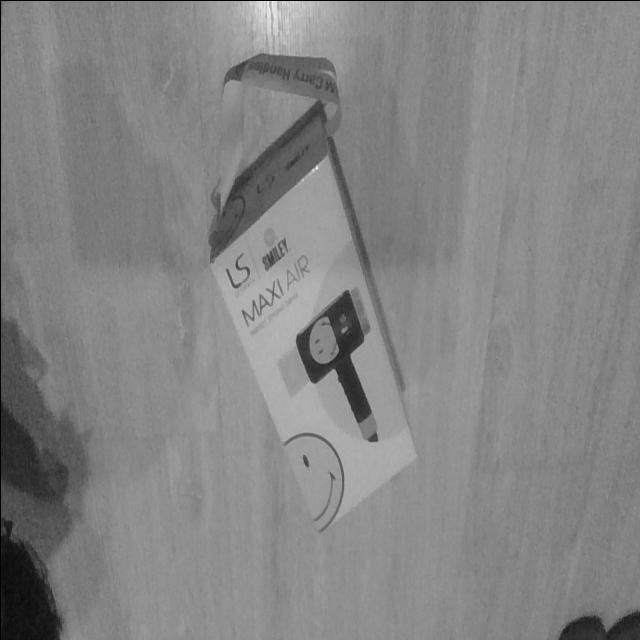Dryer: (207, 104, 418, 537)
